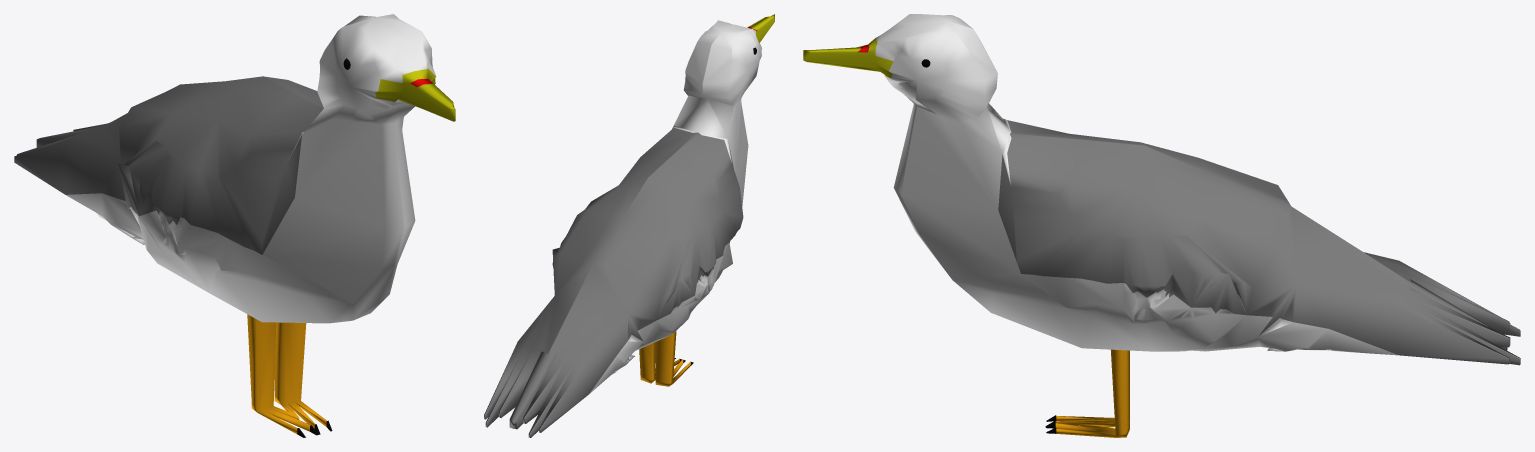
The model's file is Seagull.fbx.
The picture shows the model from 3 angles, left to right: view 1: azimuth 30°, elevation 25°; view 2: azimuth 150°, elevation 25°; view 3: azimuth 270°, elevation 25°; orthographic projection. The views are drawn at different scales.
Visible parts, largest first — view 1: pPrism1; view 2: pPrism1; view 3: pPrism1.
Boxes of the visible parts, x1=… form: pPrism1: x1=14, y1=14, x2=455, y2=437; pPrism1: x1=484, y1=14, x2=774, y2=437; pPrism1: x1=803, y1=14, x2=1520, y2=437.
Bounding box in the file's own units: 34.03 × 75.61 × 121.
